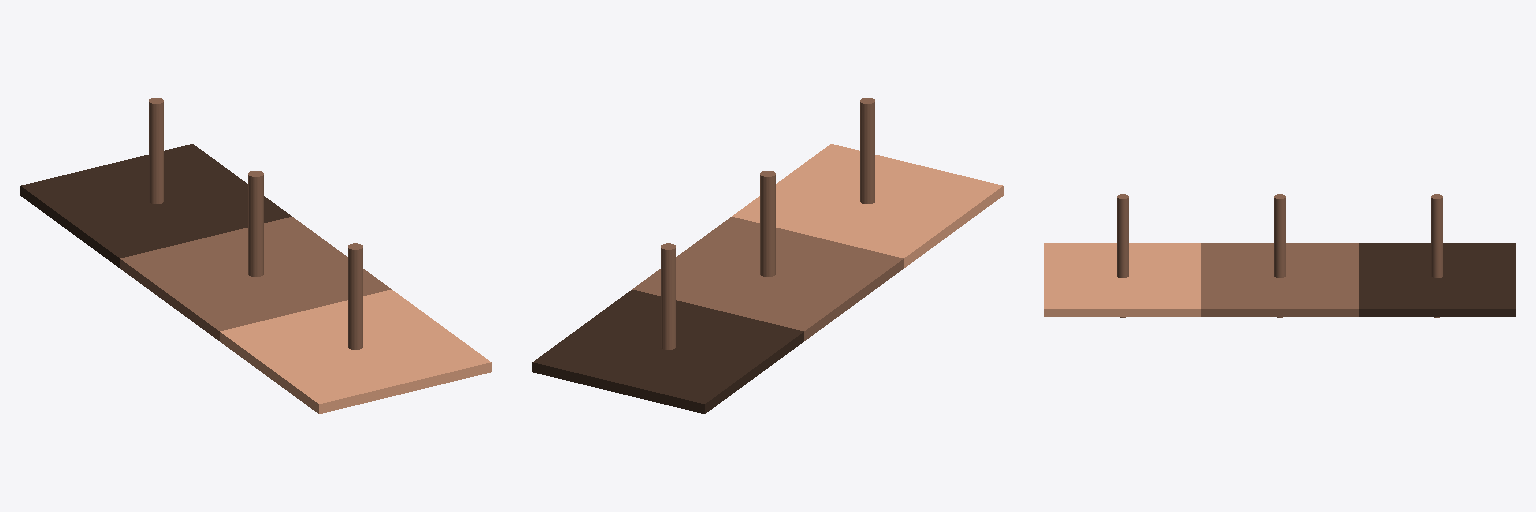
The robot description file, URDF, robot "stand.urdf":
<?xml version="0.0" ?>
<robot name="stand.urdf">
  <link name="baseLink">
    <contact>
      <lateral_friction value="0.5"/>
      <rolling_friction value="0.0001"/>
      <inertia_scaling value="3.0"/>
    </contact>
    <inertial>
      <origin rpy="0 0 0" xyz="0 0 0"/>
       <mass value=".1"/>
       <inertia ixx="1" ixy="0" ixz="0" iyy="1" iyz="0" izz="1"/>
    </inertial>

    <visual>
      <origin rpy="0 0 0" xyz="0 0 0.03"/>
      <geometry>
        <cylinder radius="0.007" length="0.15"/>
      </geometry>
      <material name="brown">
        <color rgba="0.61176471, 0.45882353, 0.37254902 1"/>
      </material>
    </visual>
    <collision>
      <origin rpy="0 0 0" xyz="0 0 0.03"/>
      <geometry>
	 	    <cylinder radius="0.007" length="0.15"/>
      </geometry>
    </collision>

    <visual>
      <origin rpy="0 0 0" xyz="0 0.18 0.03"/>
      <geometry>
        <cylinder radius="0.007" length="0.15"/>
      </geometry>
      <material name="brown">
        <color rgba="0.61176471, 0.45882353, 0.37254902 1"/>
      </material>
    </visual>
    <collision>
      <origin rpy="0 0 0" xyz="0 0.18 0.03"/>
      <geometry>
        <cylinder radius="0.007" length="0.15"/>
      </geometry>
    </collision>

    <visual>
      <origin rpy="0 0 0" xyz="0 -0.18 0.03"/>
      <geometry>
        <cylinder radius="0.007" length="0.15"/>
      </geometry>
      <material name="brown">
        <color rgba="0.61176471 0.45882353 0.37254902 1"/>
      </material>
    </visual>
    <collision>
      <origin rpy="0 0 0" xyz="0 -0.18 0.03"/>
      <geometry>
        <cylinder radius="0.007" length="0.15"/>
      </geometry>
    </collision>


    <visual>
      <origin rpy="0 0 0" xyz="0 0 0"/>
      <geometry>
        <box size=".18 .18 .01"/>
      </geometry>
      <material name="brown">
        <color rgba="0.61176471 0.45882353 0.37254902 1"/>
      </material>
    </visual>
    <collision>
      <origin rpy="0 0 0" xyz="0 0 0"/>
      <geometry>
        <box size=".18 .18 .01"/>
      </geometry>
    </collision>


  </link>

  <link name="base1">
    <inertial>
      <origin rpy="0 0 0" xyz="0 0 0"/>
       <mass value=".1"/>
       <inertia ixx="1" ixy="0" ixz="0" iyy="1" iyz="0" izz="1"/>
    </inertial>
    <visual>
      <origin rpy="0 0 0" xyz="0 -0.18 0"/>
      <geometry>
        <box size=".18 .18 .01"/>
      </geometry>
      <material name="lightbrown">
        <color rgba="0.91764706 0.68823529 0.55882353 1"/>
      </material>
    </visual>
    <collision>
      <origin rpy="0 0 0" xyz="0 -0.18 0"/>
      <geometry>
        <box size=".18 .18 .01"/>
      </geometry>
    </collision>
  </link>
  <joint name="baseLink-base1" type="fixed">
    <origin xyz="0 0 0" rpy="0 0 0"/>
    <parent link="baseLink"/>
    <child link="base1"/>
  </joint>

  <link name="base2">
    <inertial>
      <origin rpy="0 0 0" xyz="0 0 0"/>
       <mass value=".1"/>
       <inertia ixx="1" ixy="0" ixz="0" iyy="1" iyz="0" izz="1"/>
    </inertial>
    <visual>
      <origin rpy="0 0 0" xyz="0 0.18 0"/>
      <geometry>
        <box size=".18 .18 .01"/>
      </geometry>
      <material name="darkbrown">
        <color rgba="0.30588235 0.22941176 0.18627451 1"/>
      </material>
    </visual>
    <collision>
      <origin rpy="0 0 0" xyz="0 0.18 0"/>
      <geometry>
        <box size=".18 .18 .01"/>
      </geometry>
    </collision>
  </link>
  <joint name="baseLink-base2" type="fixed">
    <origin xyz="0 0 0" rpy="0 0 0"/>
    <parent link="baseLink"/>
    <child link="base2"/>
  </joint>

</robot>

--- Facts derived from the render (not from the file) ---
Views: 3 orthographic renders of the robot side by side, from view 1: azimuth 30°, elevation 25°; view 2: azimuth 150°, elevation 25°; view 3: azimuth 270°, elevation 25°.
Robot: stand.urdf — 3 links, 2 joints (2 fixed); root link baseLink; default pose: all joints at 0.
Links seen in each view (by area): view 1: baseLink, base1, base2; view 2: baseLink, base2, base1; view 3: baseLink, base1, base2.
Boxes of the visible links, x1=… form: baseLink: x1=120, y1=98, x2=391, y2=349; base1: x1=220, y1=290, x2=491, y2=413; base2: x1=20, y1=144, x2=291, y2=267; baseLink: x1=632, y1=98, x2=903, y2=349; base2: x1=532, y1=290, x2=803, y2=413; base1: x1=732, y1=144, x2=1003, y2=267; baseLink: x1=1117, y1=194, x2=1442, y2=317; base1: x1=1044, y1=243, x2=1200, y2=316; base2: x1=1359, y1=243, x2=1515, y2=316.
Bounding box of the posed robot: 0.18 × 0.54 × 0.15 m (x, y, z).
Geometry: primitives only (box / cylinder / sphere), no mesh files.